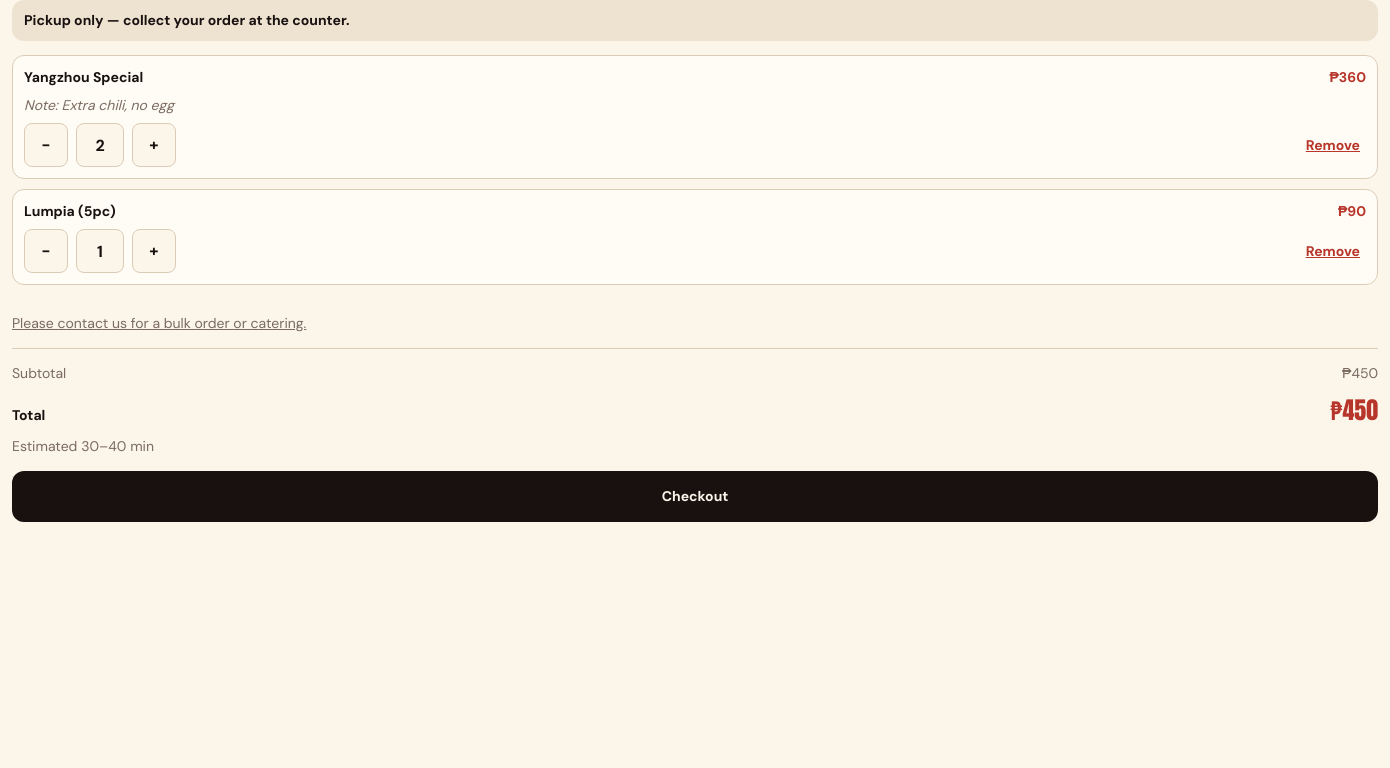
it: CartLineRow writes › sends a typed quantity, clamped to the maximum
The image size is (1390, 768).
Replace the text in the field named "Quantity of Yangzhou Special" with "25": (100, 145) [76,123,124,167]
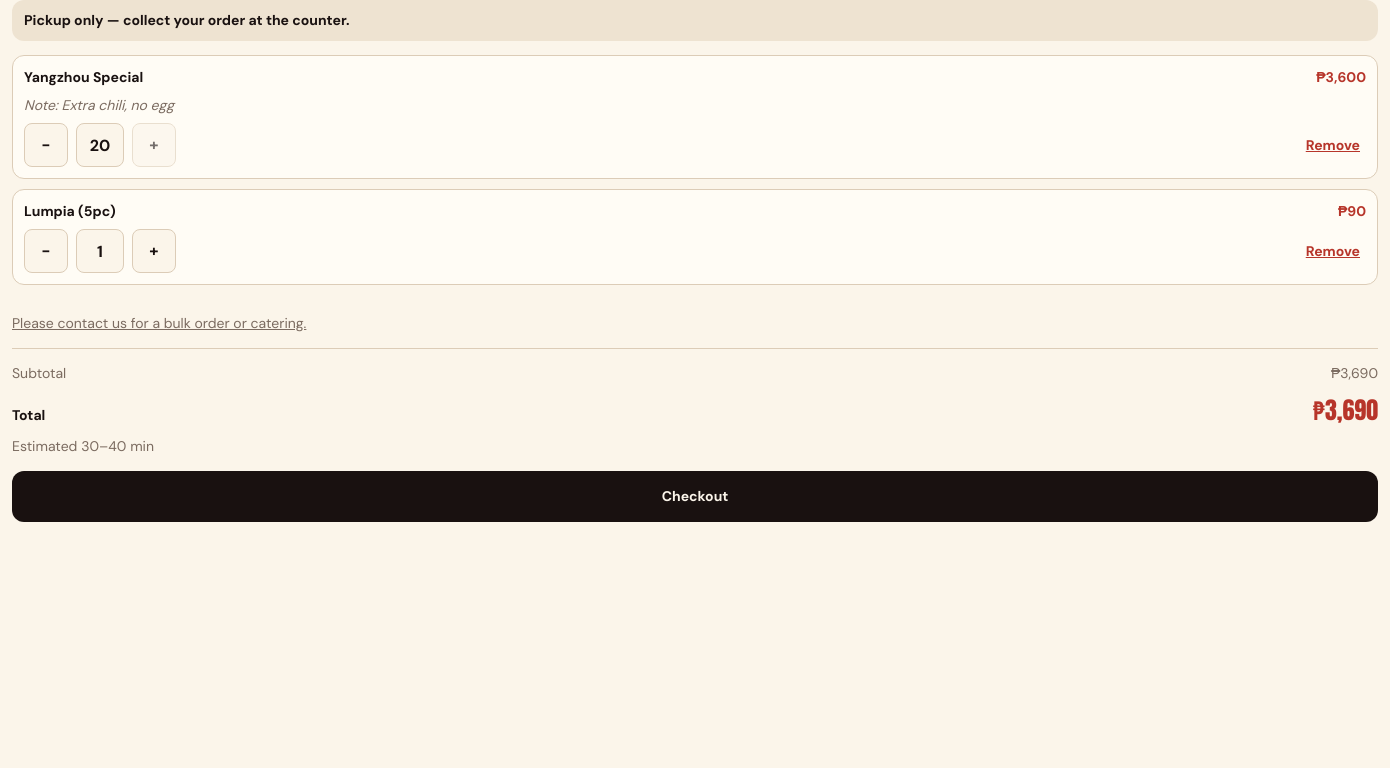
Now the field named "Quantity of Yangzhou Special" holds "20", box [76,123,124,167]
